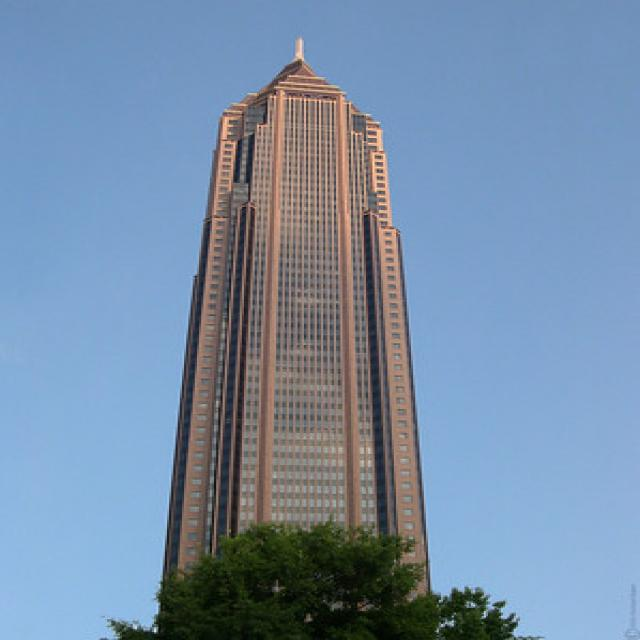Normal_building: (152, 60, 441, 639)
